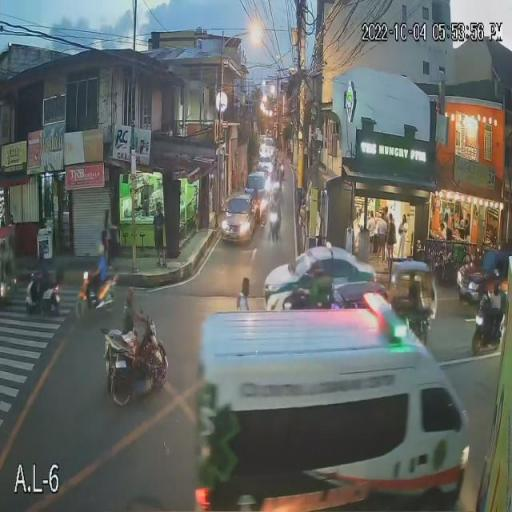helmet: (34, 243, 49, 259), (487, 283, 502, 298), (94, 243, 106, 258), (270, 187, 282, 200)
motorcycle: (100, 316, 169, 410), (472, 290, 506, 358), (79, 272, 121, 314), (24, 275, 62, 321), (268, 208, 281, 243)
rider: (31, 242, 54, 304), (481, 277, 507, 330), (89, 246, 109, 300), (268, 191, 281, 229)
